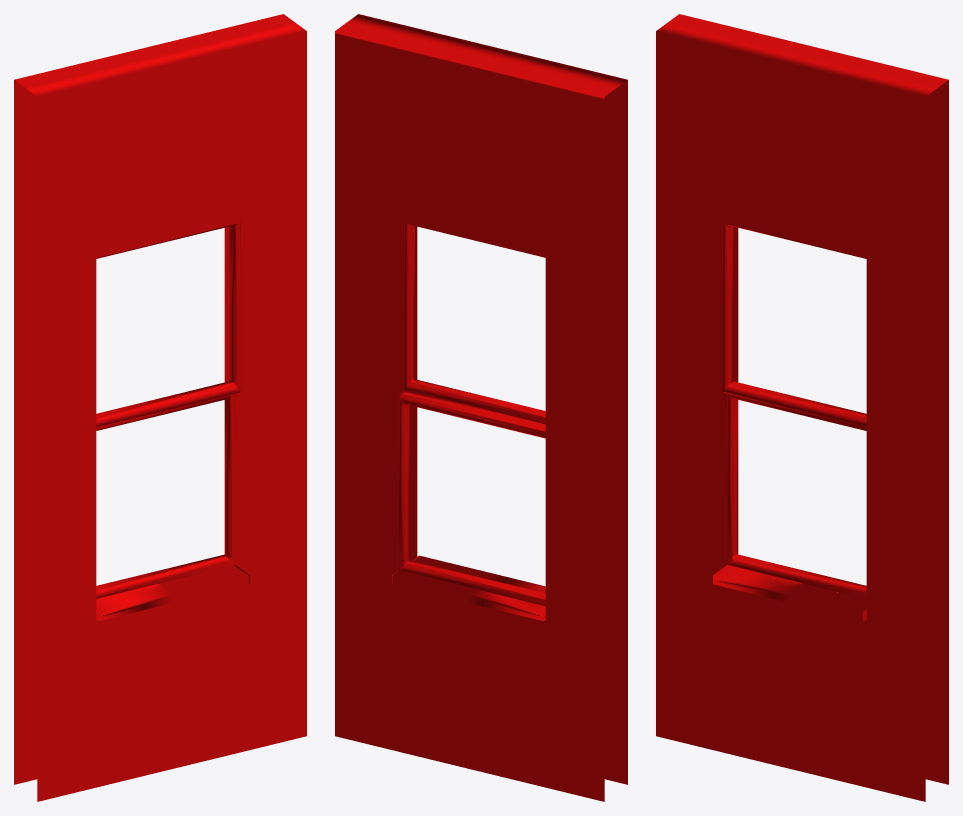
File: Wall_Window.fbx
3 renders of one model, left to right at view 1: azimuth 30°, elevation 25°; view 2: azimuth 150°, elevation 25°; view 3: azimuth 330°, elevation 25°, orthographic.
Visible parts, largest first — view 1: Wall_Window; view 2: Wall_Window; view 3: Wall_Window.
Part boxes in pixels (<box>): Wall_Window: <box>14,14,306,801</box>; Wall_Window: <box>335,14,627,801</box>; Wall_Window: <box>656,14,948,801</box>.
Size of the model in its own units: 100 by 250 by 17.42.
